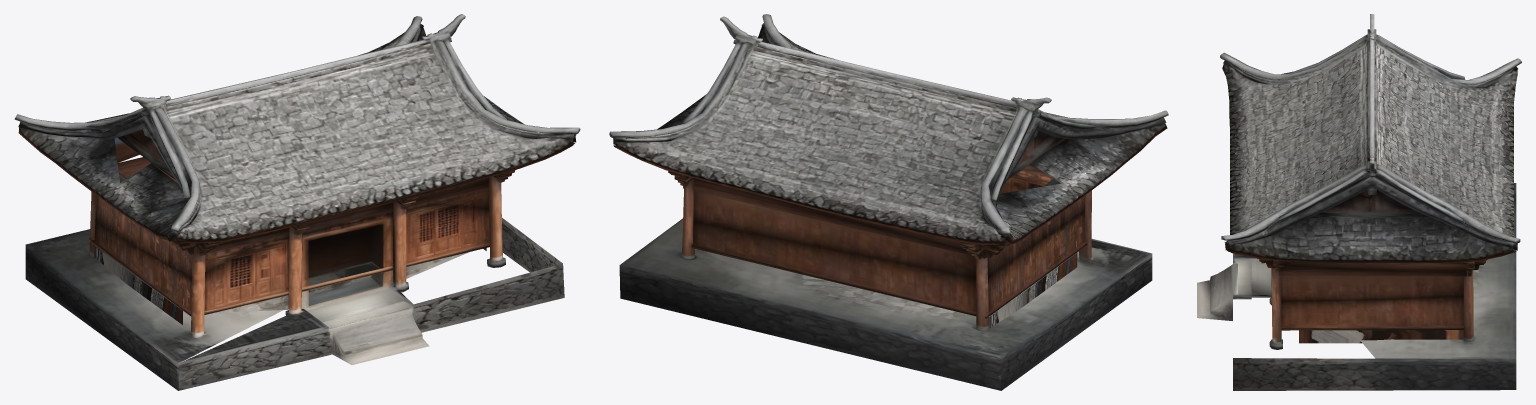
File: gorge-station-hall.glb
3 views of the same model, side by side, from view 1: azimuth 30°, elevation 25°; view 2: azimuth 150°, elevation 25°; view 3: azimuth 270°, elevation 25° (orthographic). The views are drawn at different scales.
Parts seen in each view (by area): view 1: gorge-station-hall; view 2: gorge-station-hall; view 3: gorge-station-hall.
Part boxes in pixels (bbox=[...]): gorge-station-hall: bbox=[14, 14, 580, 390]; gorge-station-hall: bbox=[609, 14, 1168, 390]; gorge-station-hall: bbox=[1197, 14, 1521, 390].
Bounding box in the file's own units: 14.39 × 7.86 × 10.63.
Materials: 1 (1 with a texture image).
